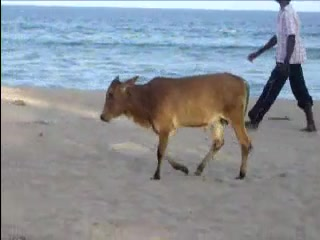cow: (101, 72, 254, 180)
